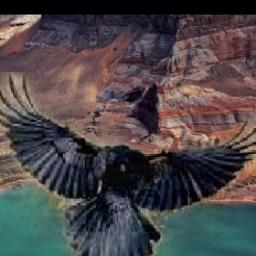Crow: (0, 73, 256, 256)
